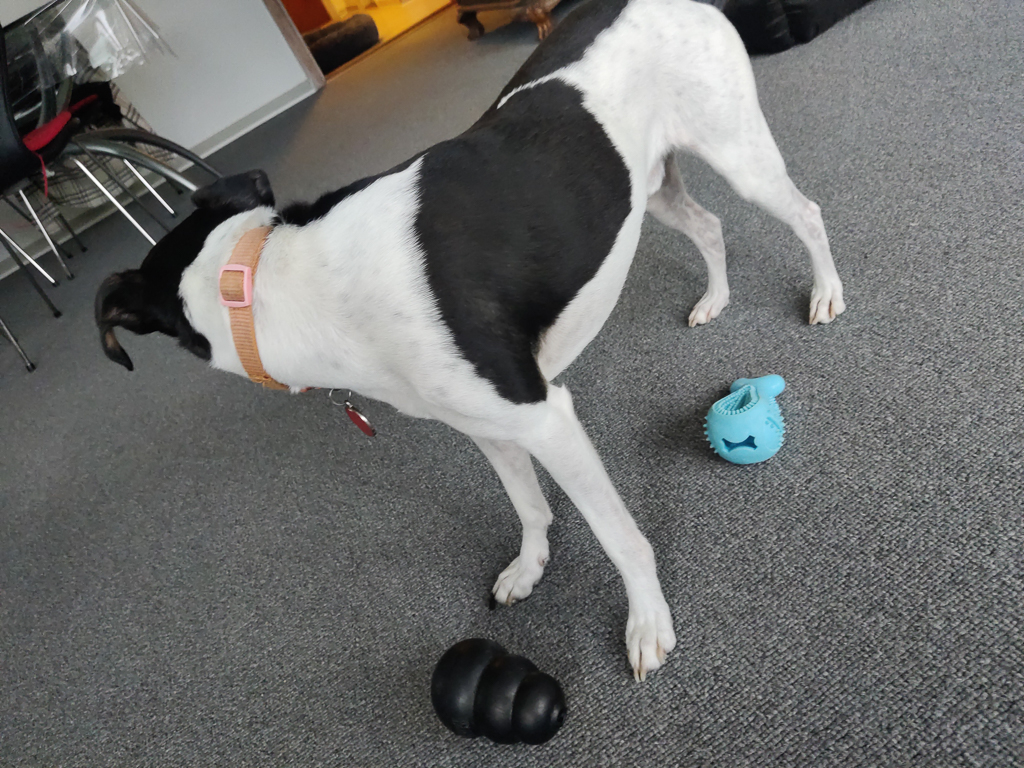Dog: (84, 0, 857, 693)
